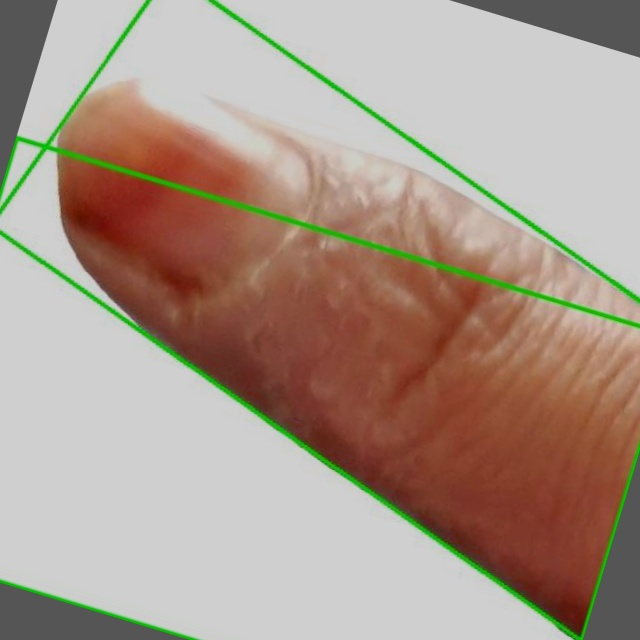Contact Dermatitis: (0, 0, 639, 639), (0, 137, 639, 639)
